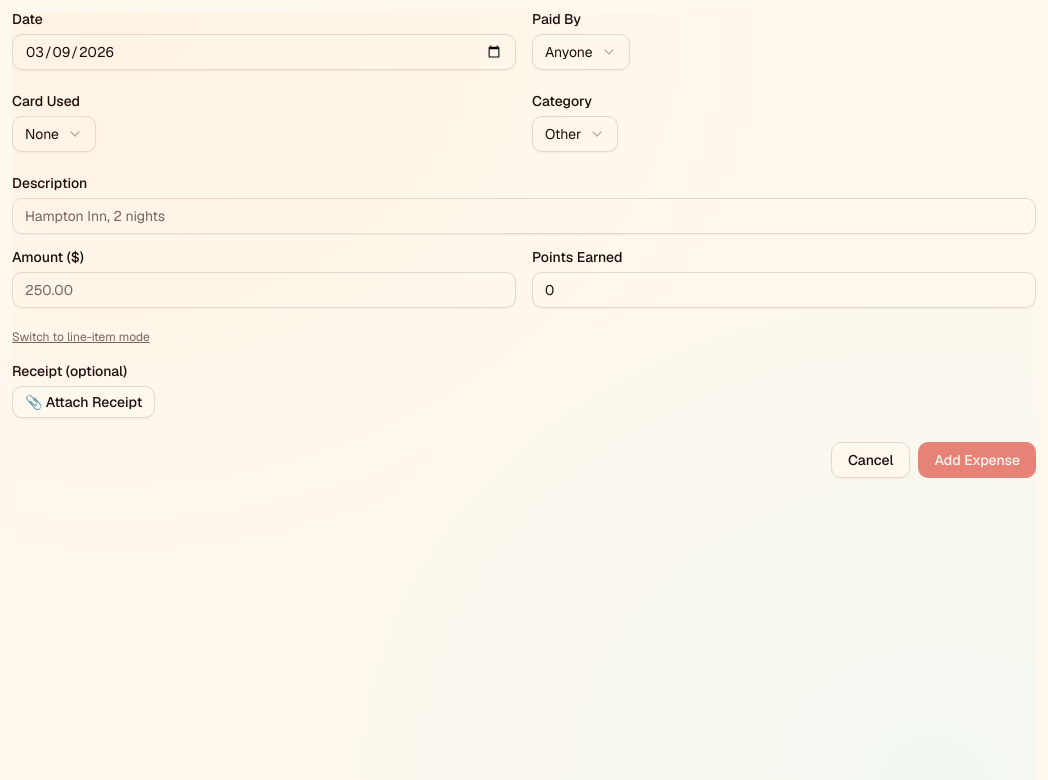
Scenario: Line-item mode — switch controls › clicking 'Switch to line-item mode' shows LineItemEditor
Check: the text "switch to single expense" is not shown
Step 1. Click the button "Switch to line-item mode" → (81, 337), box [12,329,150,345]
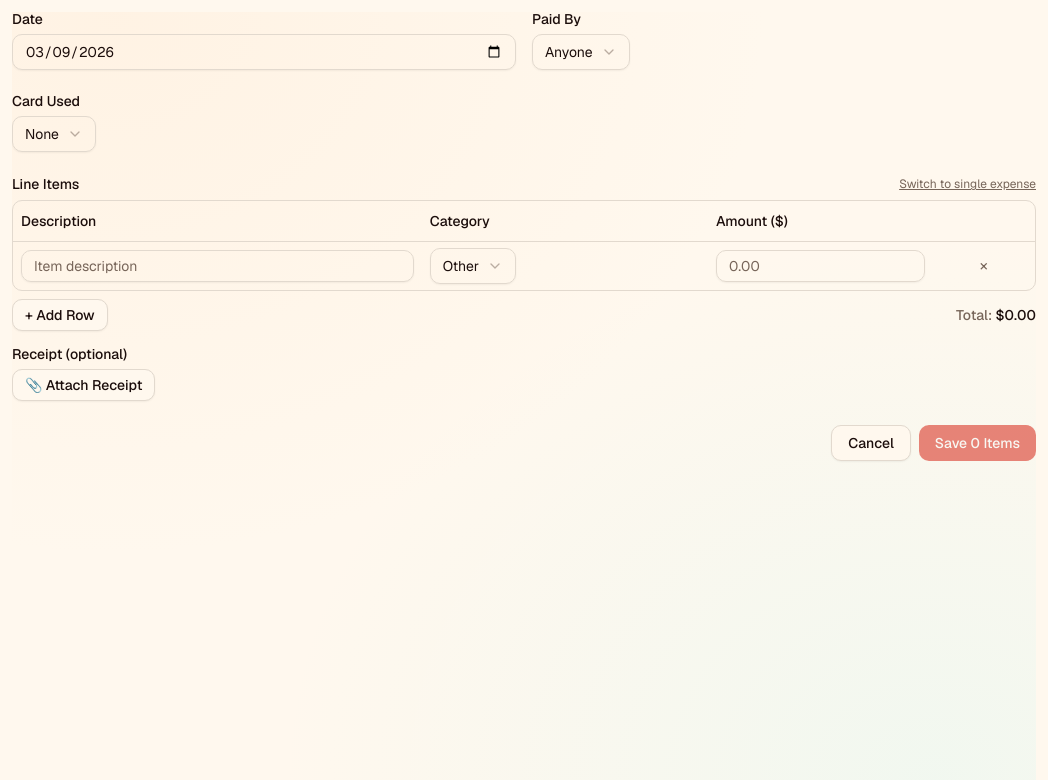
Check: the button "Switch to single expense" is shown, box [899,176,1036,192]
